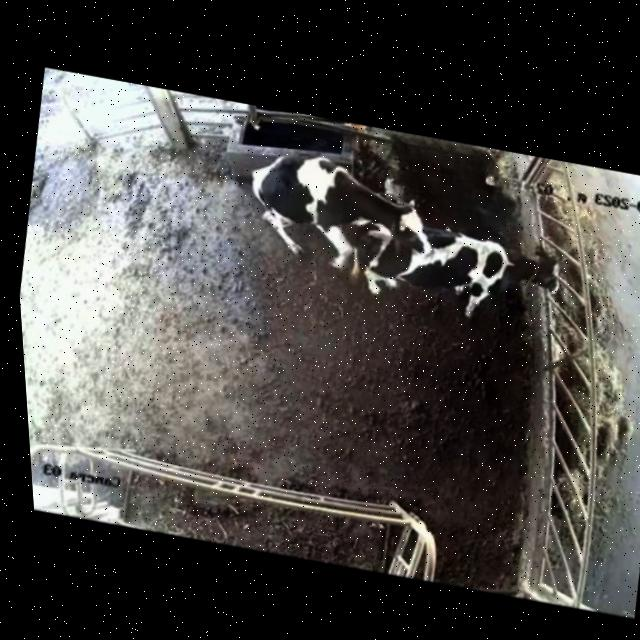ride: (218, 131, 456, 316)
stand: (337, 204, 575, 340)
